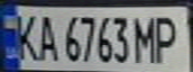3: (109, 12, 133, 63)
6: (57, 11, 81, 63), (96, 12, 115, 63)
7: (78, 11, 96, 63)
A: (33, 10, 60, 62)
K: (6, 9, 42, 63)
M: (130, 11, 160, 64)
P: (148, 11, 187, 64)
